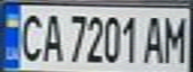0: (103, 11, 124, 64)
1: (121, 12, 142, 64)
2: (84, 11, 106, 64)
7: (63, 10, 87, 64)
A: (139, 11, 169, 64), (39, 9, 66, 63)
C: (15, 9, 45, 63)
M: (160, 11, 190, 64)
